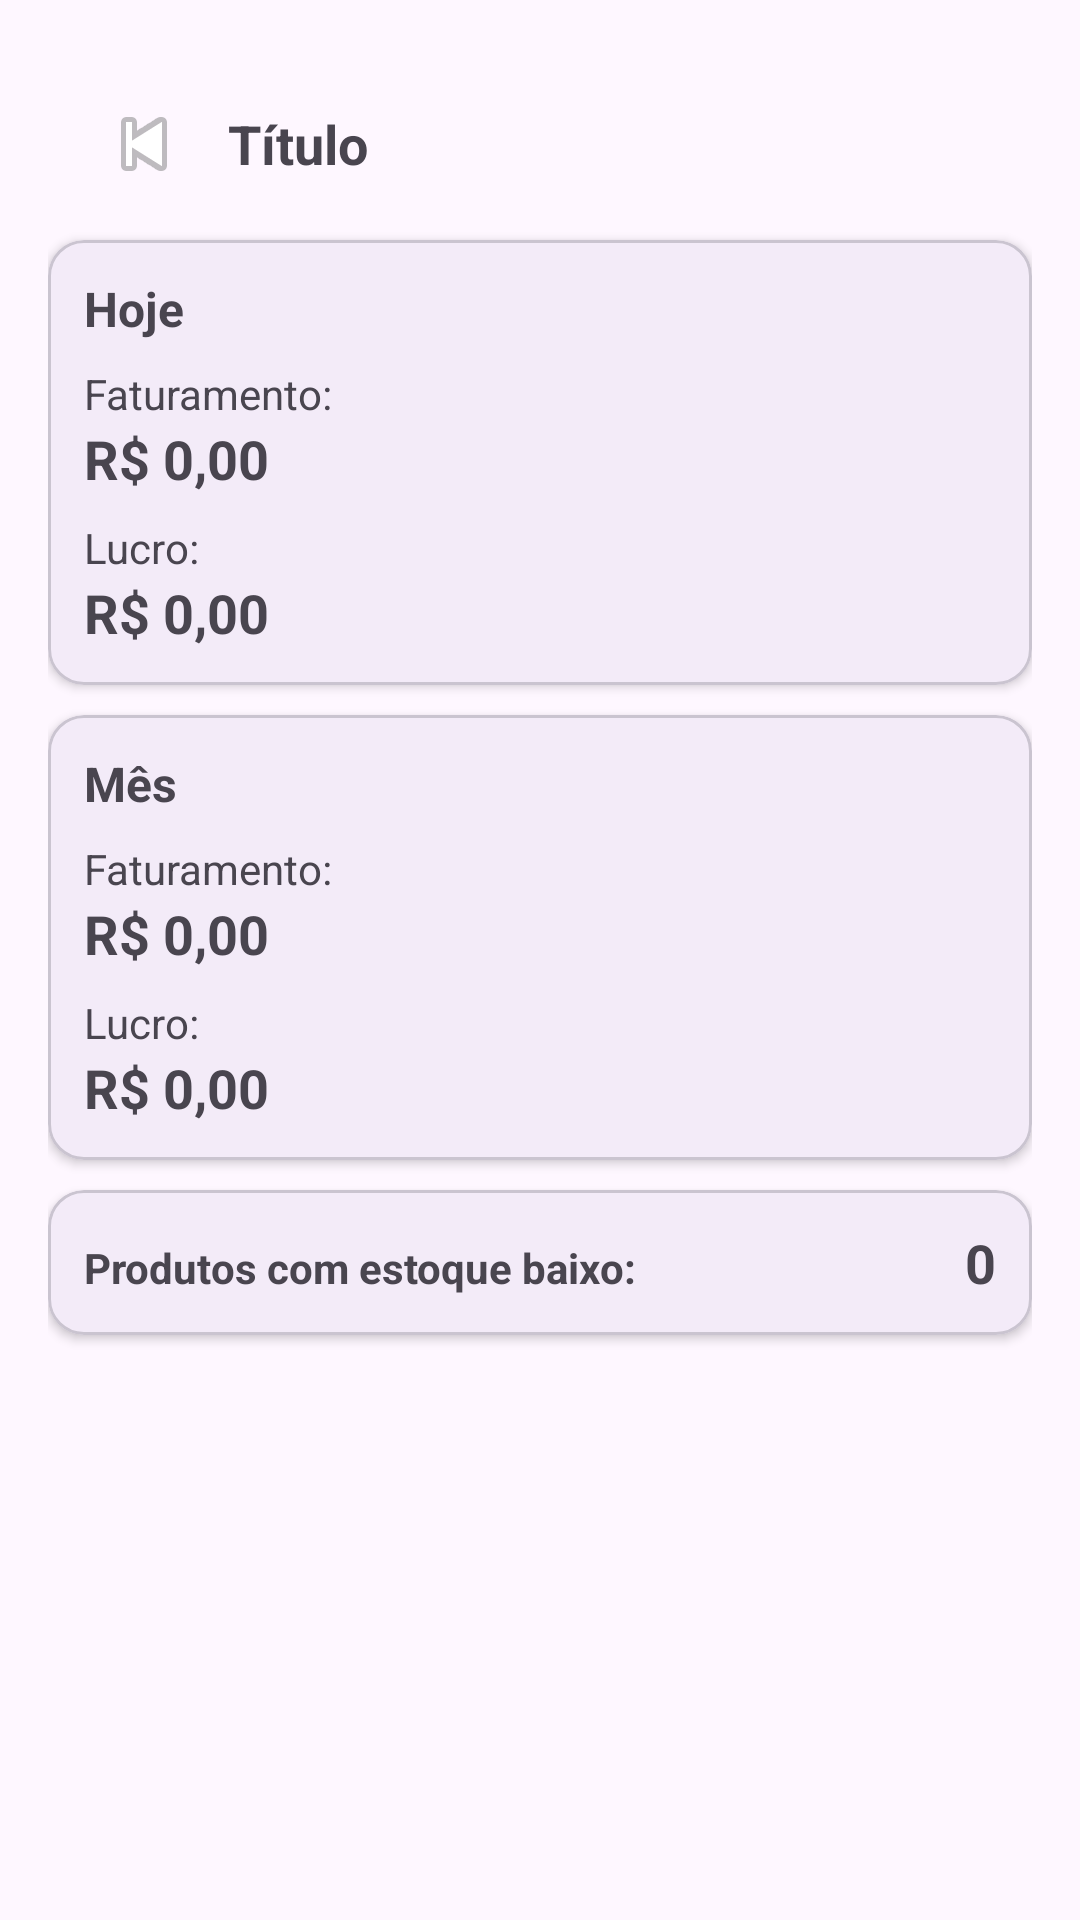

Screen size 1080 x 1920. Icon name, then its box in pixels as [left=x1, top=y1, right=x2, bottom=y2]:
Voltar: [left=121, top=117, right=167, bottom=171]
